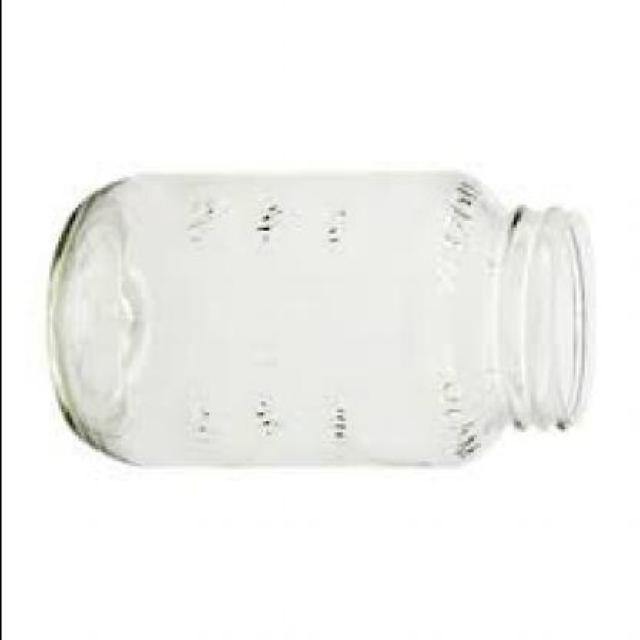GLASS: (51, 171, 594, 469)
